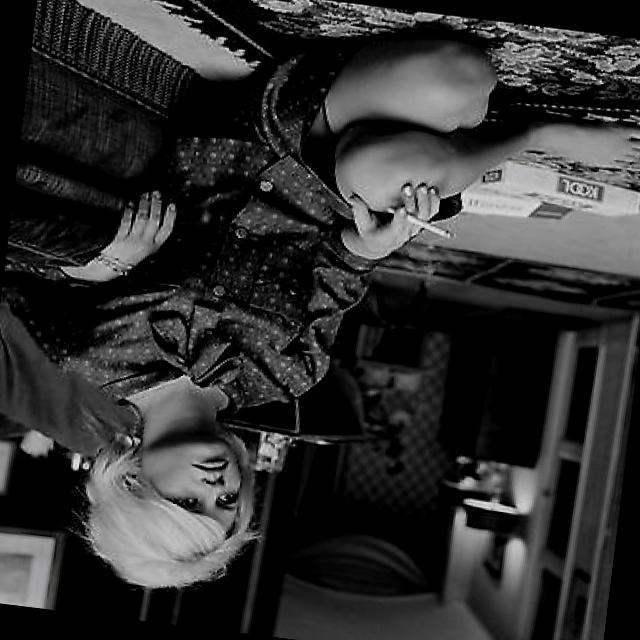cigarette: (392, 206, 462, 245)
